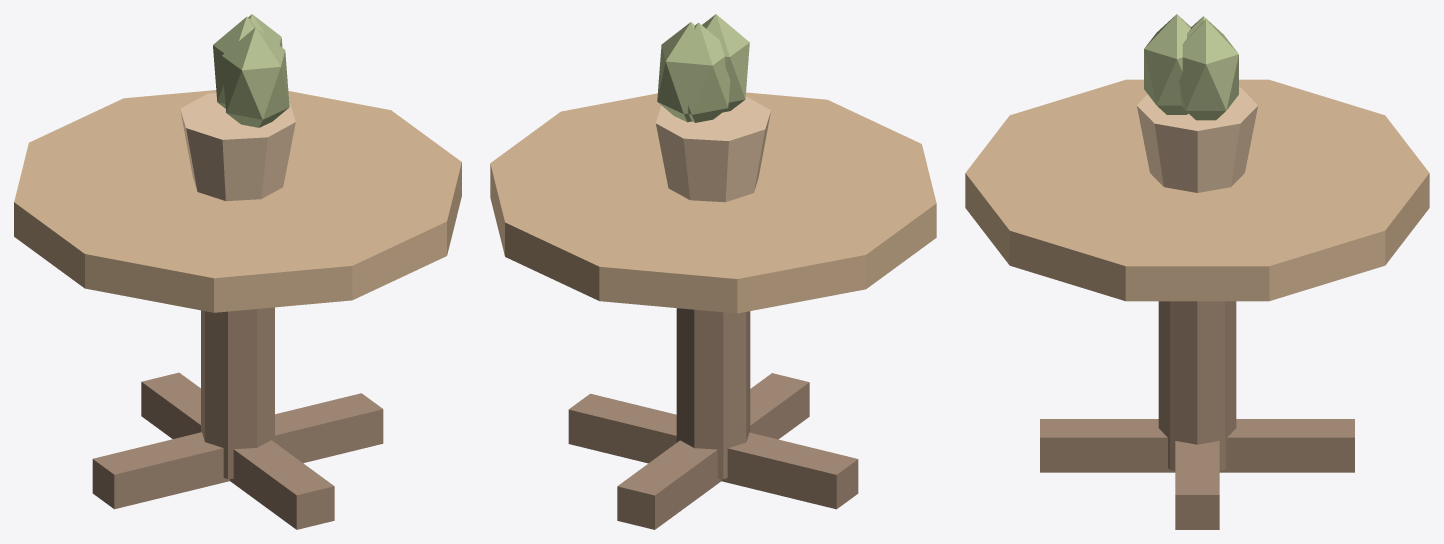
File: garden_table.fbx
3 renders of one model, left to right at view 1: azimuth 30°, elevation 25°; view 2: azimuth 150°, elevation 25°; view 3: azimuth 270°, elevation 25°, orthographic.
Visible parts, largest first — view 1: garden_table_geometry; view 2: garden_table_geometry; view 3: garden_table_geometry.
Boxes of the visible parts, box(x1,y1,x2,y2) form: garden_table_geometry: box(14, 14, 461, 529); garden_table_geometry: box(490, 14, 936, 529); garden_table_geometry: box(965, 14, 1429, 529).
Size of the model in its own units: 0.7989 by 0.905 by 0.84.
